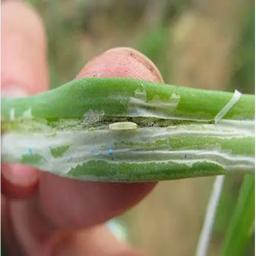liriomyza: (3, 100, 256, 184), (108, 119, 138, 132)
